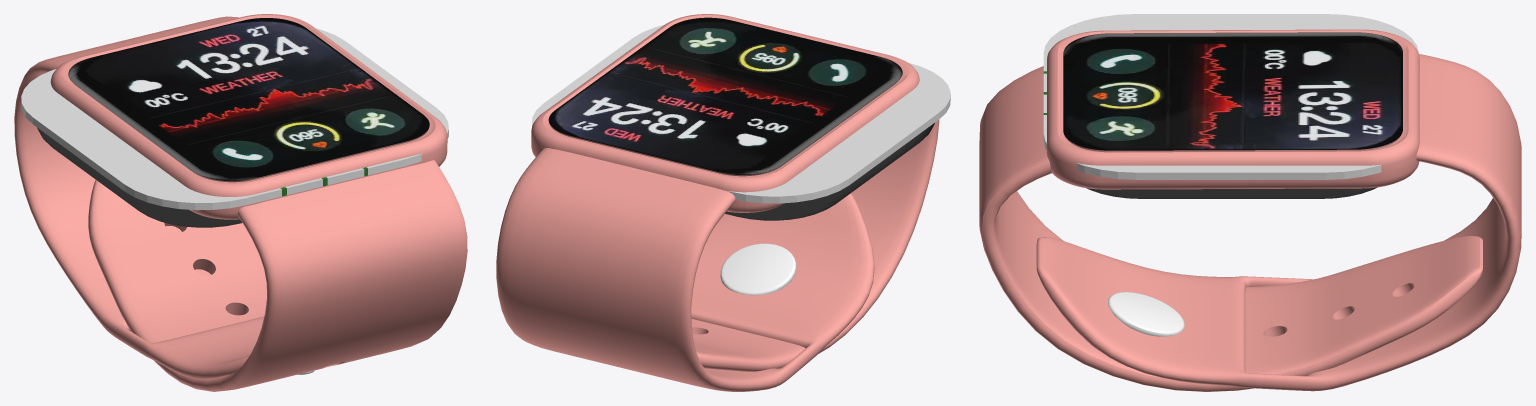
The model's file is shoubiao.glb.
3 renders of one model, left to right at view 1: azimuth 30°, elevation 25°; view 2: azimuth 150°, elevation 25°; view 3: azimuth 270°, elevation 25°, orthographic. The views are drawn at different scales.
Visible parts, largest first — view 1: Circle, 平面; view 2: Circle, 平面; view 3: Circle, 平面.
Boxes of the visible parts, x1,y1,x2,y2 form: Circle: (14,14,467,391); 平面: (21,28,448,227); Circle: (496,14,939,391); 平面: (532,25,950,220); Circle: (979,29,1521,391); 平面: (1043,14,1418,198).
Size of the model in its own units: 2 by 1.5 by 2.89.
7 materials, 1 textured.
